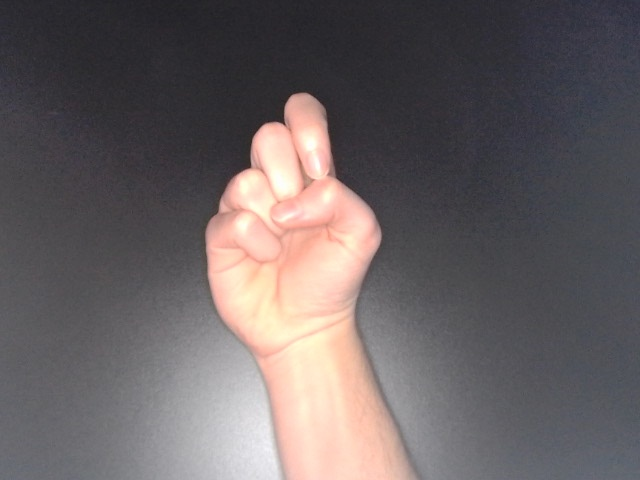s: (199, 89, 386, 369)
